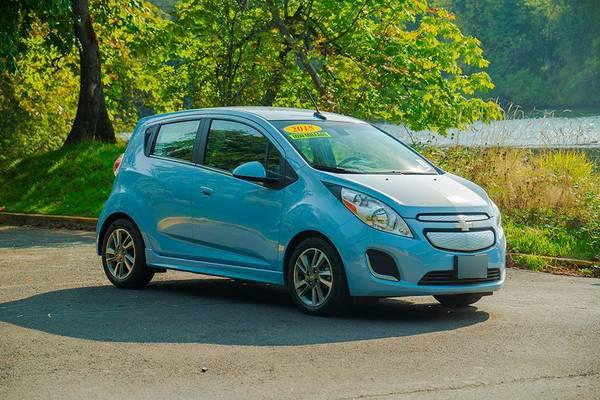Front_Bumper: (330, 215, 510, 300)
Front_Fender: (278, 163, 355, 284)
Front_Right_Door: (192, 165, 281, 284)
Front_Right_Window: (195, 116, 290, 192)
Front_Windshield: (271, 120, 440, 174)
Grille: (415, 268, 506, 298)
Hood: (328, 173, 502, 225)
Rear_Fender: (97, 150, 142, 235)
Rear_Right_Door: (122, 156, 195, 272)
Rear_Right_Window: (142, 118, 207, 164)
Right_Headlight: (327, 182, 416, 238)
Roof: (124, 105, 364, 169)
Wheel: (285, 239, 344, 313), (98, 220, 154, 289)
